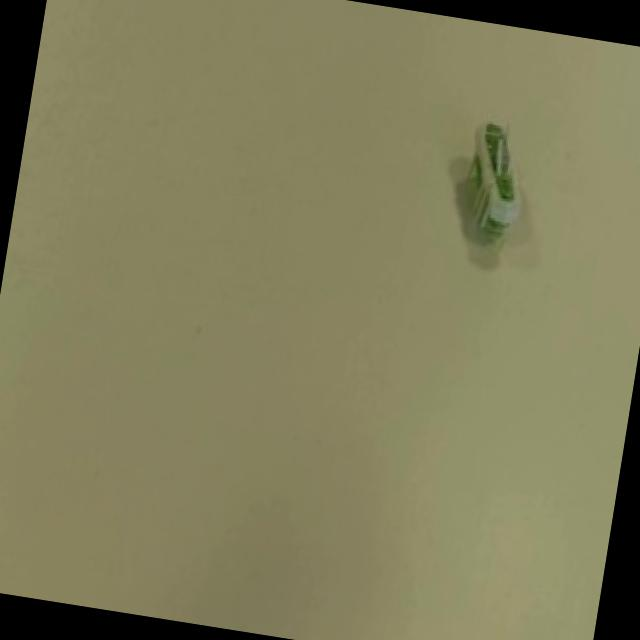4_NanoBug_Blanco: (423, 106, 551, 264)
